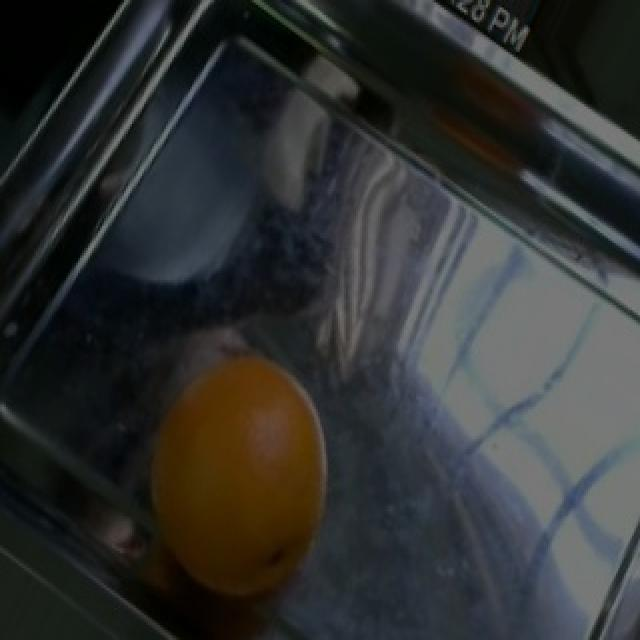Fruit: (112, 322, 356, 628)
